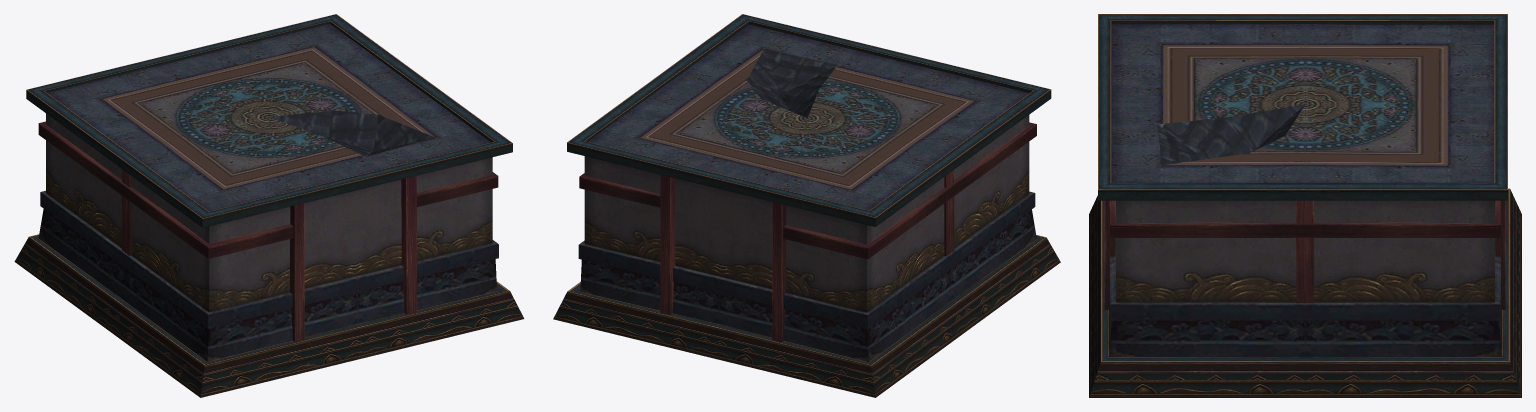
Rendered from Yland2_jz_10 Yland2.FBX.
3 views of the same model, side by side, from view 1: azimuth 30°, elevation 25°; view 2: azimuth 150°, elevation 25°; view 3: azimuth 270°, elevation 25° (orthographic). The views are drawn at different scales.
Parts seen in each view (by area): view 1: Yland2_jz_10 Yland2; view 2: Yland2_jz_10 Yland2; view 3: Yland2_jz_10 Yland2.
Part boxes in pixels (box(x1,y1,x2,y2)): Yland2_jz_10 Yland2: box(14, 14, 524, 397); Yland2_jz_10 Yland2: box(553, 14, 1060, 397); Yland2_jz_10 Yland2: box(1089, 14, 1521, 397).
Size of the model in its own units: 5.52 by 2.85 by 5.49.
